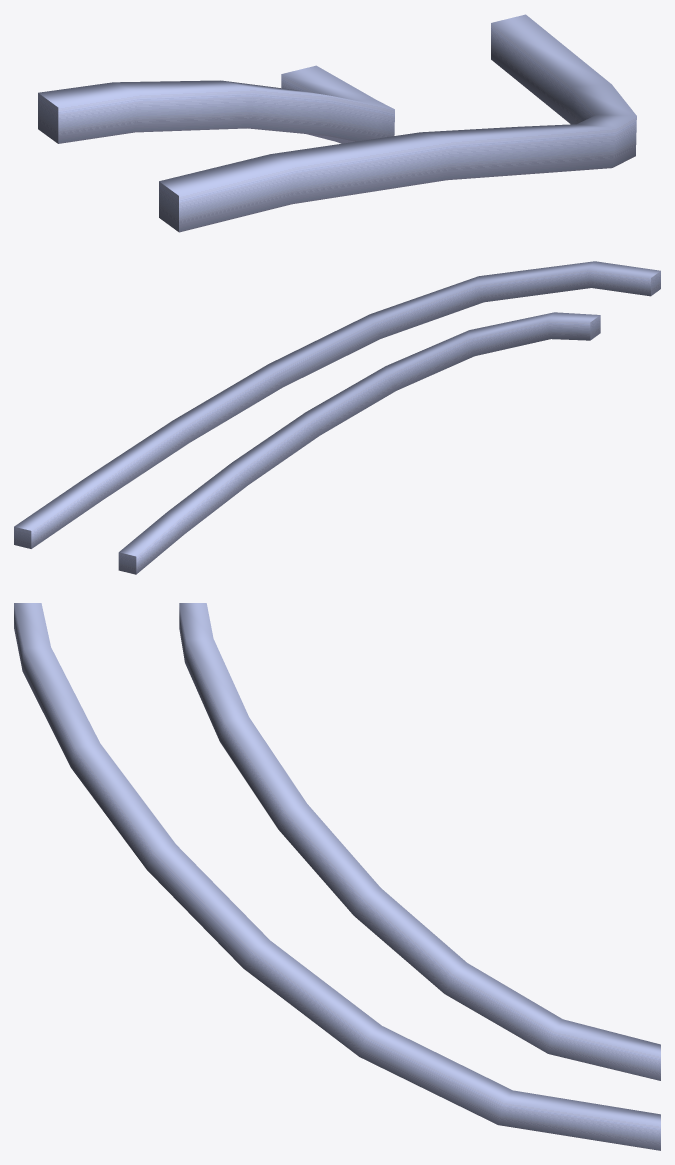
Rendered from railroad-rail-corner-small-ramp.glb.
3 views of the same model, one above another, from view 1: azimuth 30°, elevation 25°; view 2: azimuth 150°, elevation 25°; view 3: azimuth 270°, elevation 25° (orthographic). The views are drawn at different scales.
Visible parts, largest first — view 1: railroad-rail-corner-small-ramp; view 2: railroad-rail-corner-small-ramp; view 3: railroad-rail-corner-small-ramp.
Part boxes in pixels (left/top/right/bottom): railroad-rail-corner-small-ramp: left=38, top=14, right=636, bottom=232; railroad-rail-corner-small-ramp: left=14, top=261, right=660, bottom=574; railroad-rail-corner-small-ramp: left=14, top=603, right=660, bottom=1150.
Bounding box in the file's own units: 2.35 × 1.1 × 2.35.
Materials: 1 (1 with a texture image).
